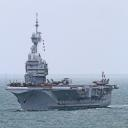Portanaves: (6, 12, 120, 112)
